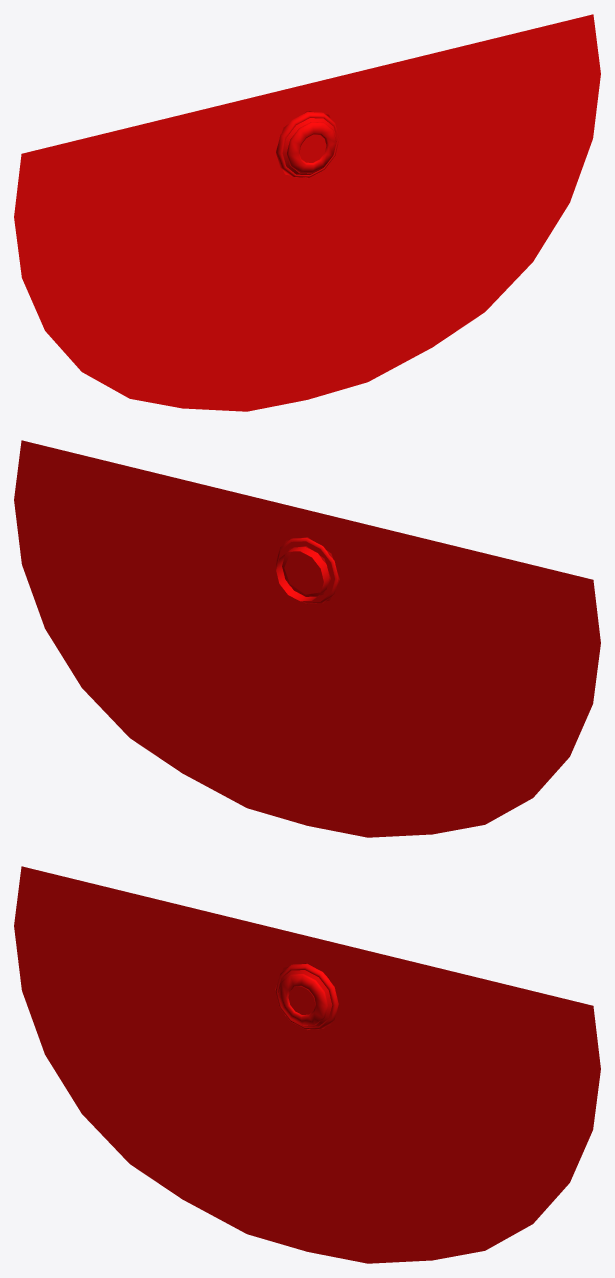
File: MeshPsSinkbasin_26_1.obj
3 views of the same model, one above another, from view 1: azimuth 30°, elevation 25°; view 2: azimuth 150°, elevation 25°; view 3: azimuth 330°, elevation 25° (orthographic).
Visible parts, largest first — view 1: PsSinkbasin_26; view 2: PsSinkbasin_26; view 3: PsSinkbasin_26.
Boxes of the visible parts, left/top/right/bottom form: PsSinkbasin_26: left=14, top=14, right=600, bottom=411; PsSinkbasin_26: left=14, top=440, right=600, bottom=837; PsSinkbasin_26: left=14, top=866, right=600, bottom=1263.
Size of the model in its own units: 0.725 by 0.3728 by 0.0295.
